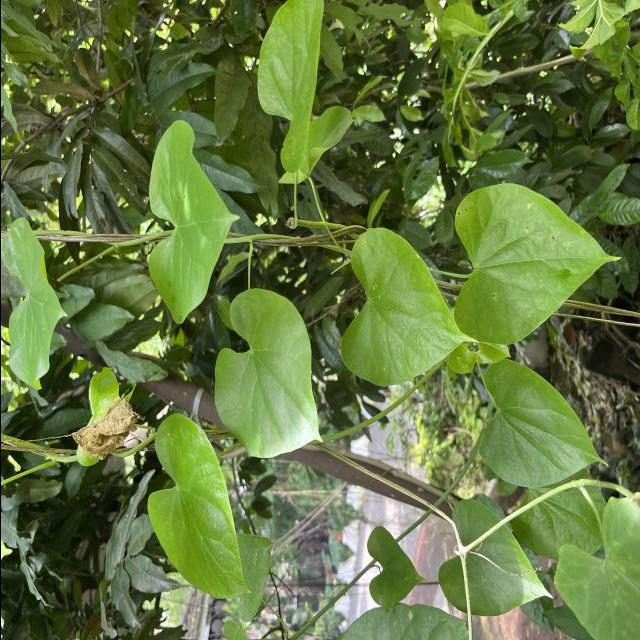Tinospora cordifolia: (449, 180, 622, 347), (337, 224, 479, 388), (144, 410, 253, 602), (144, 117, 242, 327), (210, 286, 324, 460), (476, 358, 610, 492), (0, 214, 70, 394)
